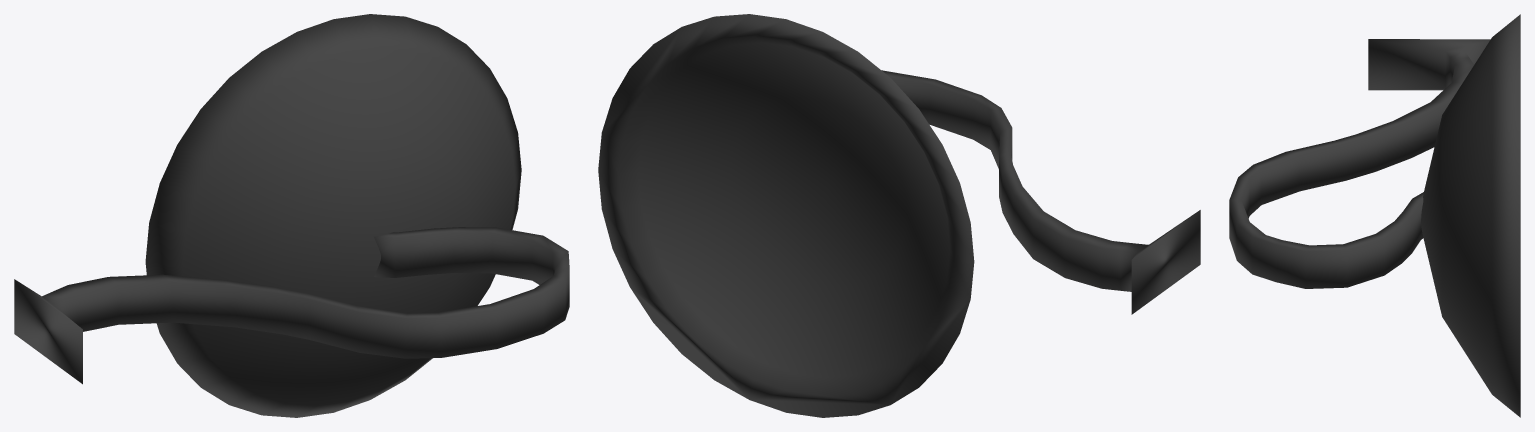
The model's file is WallCandleStickUnited_01.fbx.
The picture shows the model from 3 angles, left to right: view 1: azimuth 30°, elevation 25°; view 2: azimuth 150°, elevation 25°; view 3: azimuth 270°, elevation 25°; orthographic projection. The views are drawn at different scales.
Parts seen in each view (by area): view 1: Cube; view 2: Cube; view 3: Cube.
Part boxes in pixels (x1=…): Cube: x1=14, y1=14, x2=569, y2=417; Cube: x1=598, y1=14, x2=1200, y2=417; Cube: x1=1229, y1=14, x2=1520, y2=417.
Size of the model in its own units: 277 by 200 by 144.
1 material, 1 textured.
